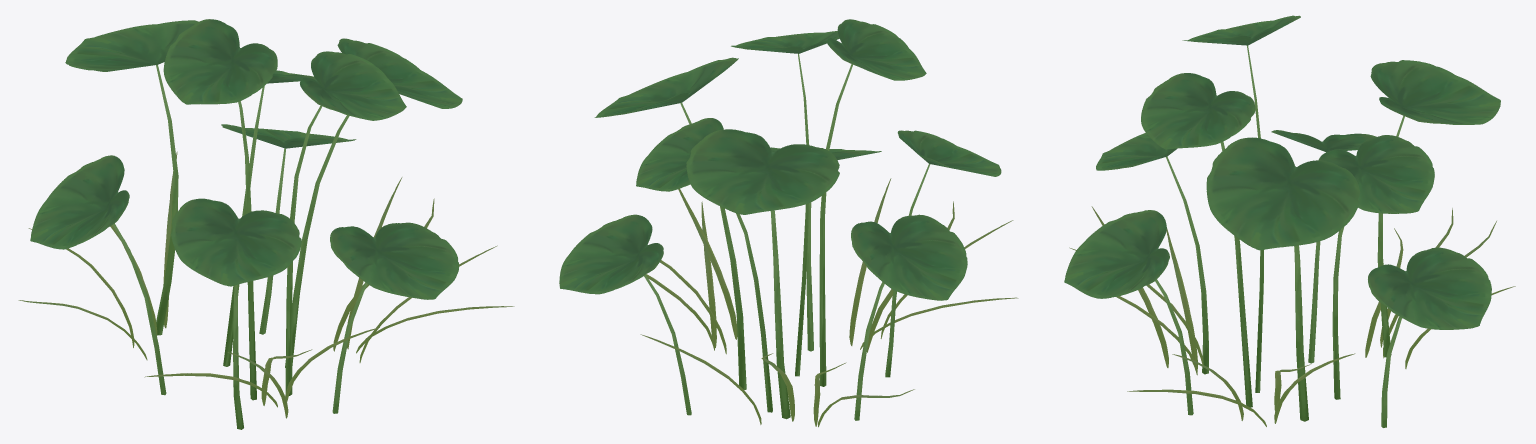
File: SM_EastLands_CirclePlant_01.fbx
3 views of the same model, side by side, from view 1: azimuth 30°, elevation 25°; view 2: azimuth 150°, elevation 25°; view 3: azimuth 270°, elevation 25° (orthographic). The views are drawn at different scales.
Visible parts, largest first — view 1: SM_EastLands_CirclePlant_01_LOD0; view 2: SM_EastLands_CirclePlant_01_LOD0; view 3: SM_EastLands_CirclePlant_01_LOD0.
Part boxes in pixels (bbox=[...]): SM_EastLands_CirclePlant_01_LOD0: bbox=[18, 19, 514, 429]; SM_EastLands_CirclePlant_01_LOD0: bbox=[559, 19, 1018, 427]; SM_EastLands_CirclePlant_01_LOD0: bbox=[1064, 15, 1515, 427].
Size of the model in its own units: 68.67 by 62.66 by 72.38.
